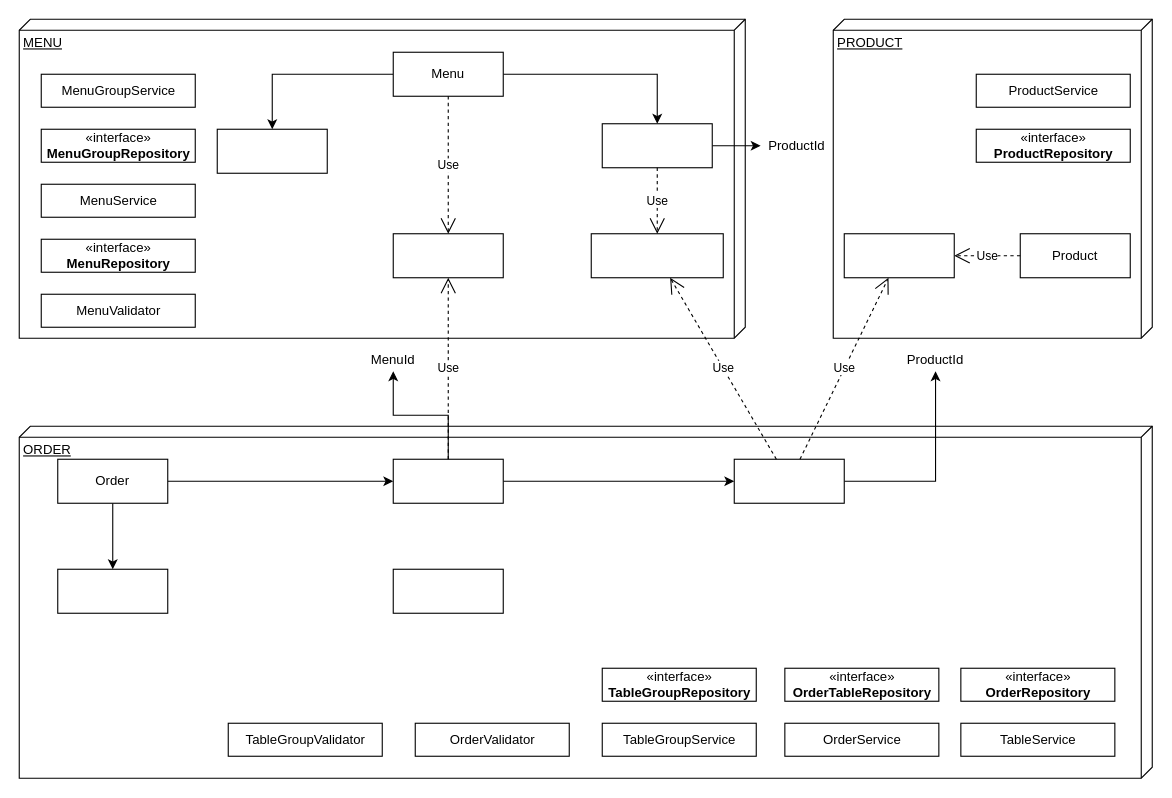
Some shapes in this 1172 by 798 pixel diagram are drawn without their labels. Each missing label, with the centre of its shape:
MenuGroup: [271,150]
MenuOption: [447,255]
MenuProduct: [656,145]
MenuProductOption: [656,255]
OrderLineItem: [447,480]
OrderLineItem Detail: [788,480]
OrderTable: [112,590]
ProductOption: [898,255]
TableGroup: [447,590]
